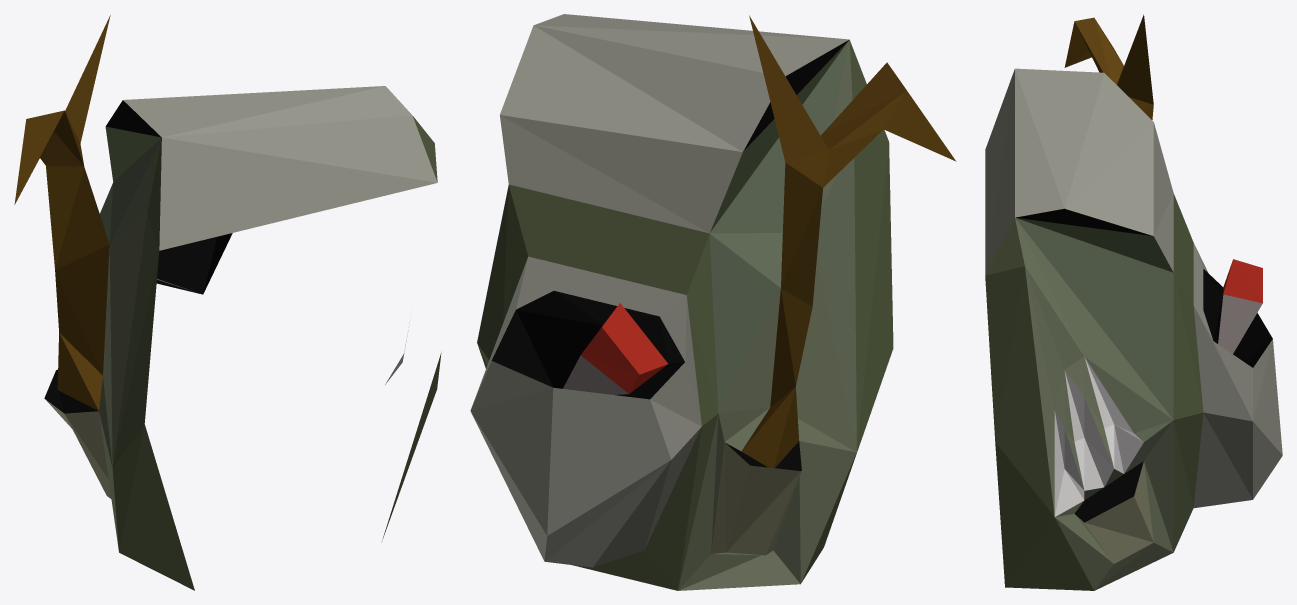
File: player_ava_s_accumulator.glb
3 views of the same model, side by side, from view 1: azimuth 30°, elevation 25°; view 2: azimuth 150°, elevation 25°; view 3: azimuth 270°, elevation 25° (orthographic). The views are drawn at different scales.
Bounding box in the file's own units: 44.99 × 54.01 × 30.
1 material, 1 textured.
